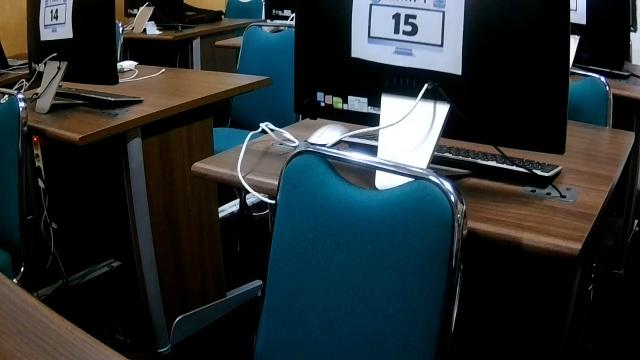AIO PC-Monitor-TV: (291, 0, 571, 155), (22, 0, 118, 85)
Kursi: (209, 20, 296, 155)
Meja: (188, 110, 636, 261), (13, 59, 273, 145)
